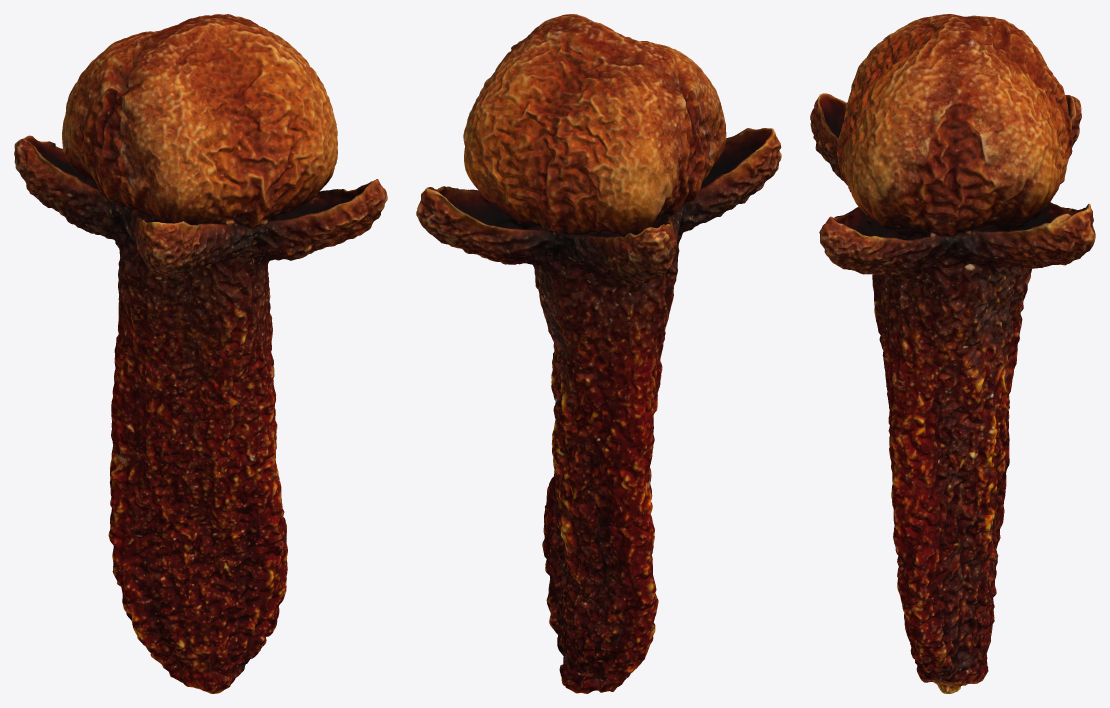
The model's file is cengkih.glb.
3 renders of one model, left to right at view 1: azimuth 30°, elevation 25°; view 2: azimuth 150°, elevation 25°; view 3: azimuth 270°, elevation 25°, orthographic.
Parts seen in each view (by area): view 1: Object_2; view 2: Object_2; view 3: Object_2.
Boxes of the visible parts, <box> form: Object_2: <box>14,14,387,693</box>; Object_2: <box>416,14,781,693</box>; Object_2: <box>810,14,1095,693</box>.
Size of the model in its own units: 0.3641 by 0.9207 by 0.3603.
Materials: 1 (1 with a texture image).
